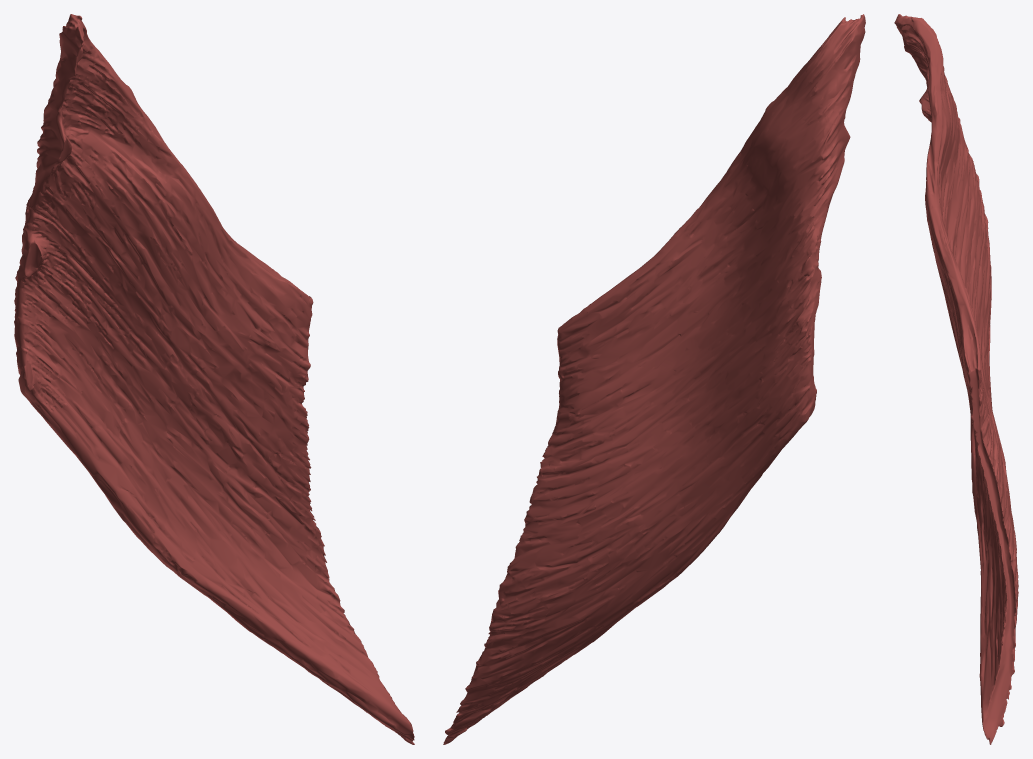
File: FMA13382.glb
3 renders of one model, left to right at view 1: azimuth 30°, elevation 25°; view 2: azimuth 150°, elevation 25°; view 3: azimuth 270°, elevation 25°, orthographic. The views are drawn at different scales.
Visible parts, largest first — view 1: FMA13382; view 2: FMA13382; view 3: FMA13382.
Part boxes in pixels (x1,y1,x2,y2): FMA13382: (14,14,414,744); FMA13382: (443,14,865,744); FMA13382: (894,14,1018,744).
Size of the model in its own units: 0.0855 by 0.1741 by 0.0329.
